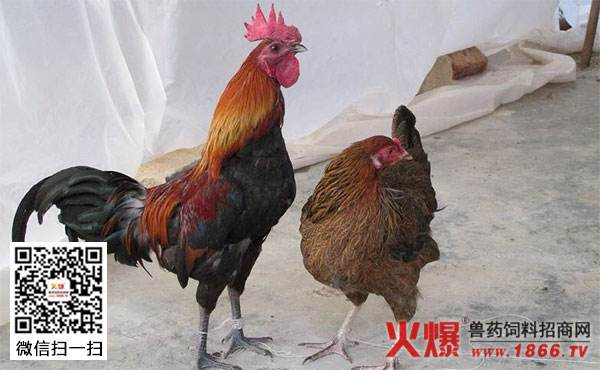chicken: (15, 11, 310, 365), (301, 105, 464, 370)
